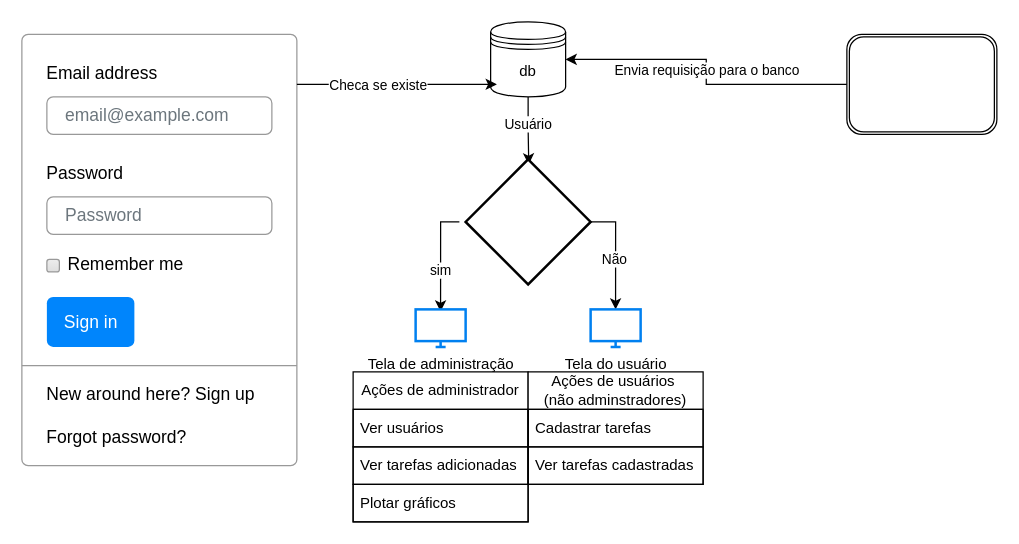
This 1019x544 diagram has some shape labels left out. The centre of each missing label's shape, as x and y in pixels:
"admin?" belongs at (527,221).
"API" belongs at (921,83).
